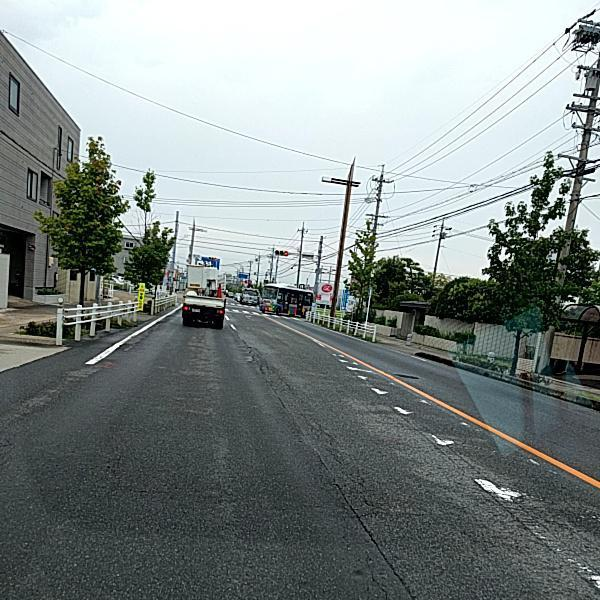D00: (361, 549, 389, 597)
D44: (335, 349, 558, 540)
